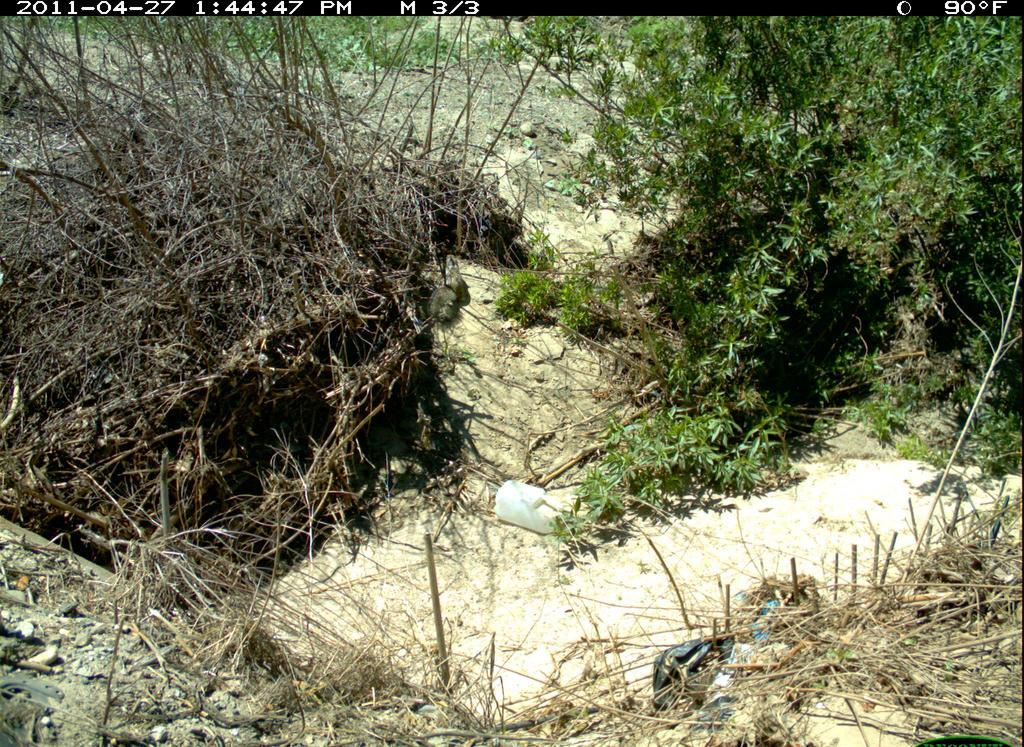squirrel: (409, 273, 486, 346)
